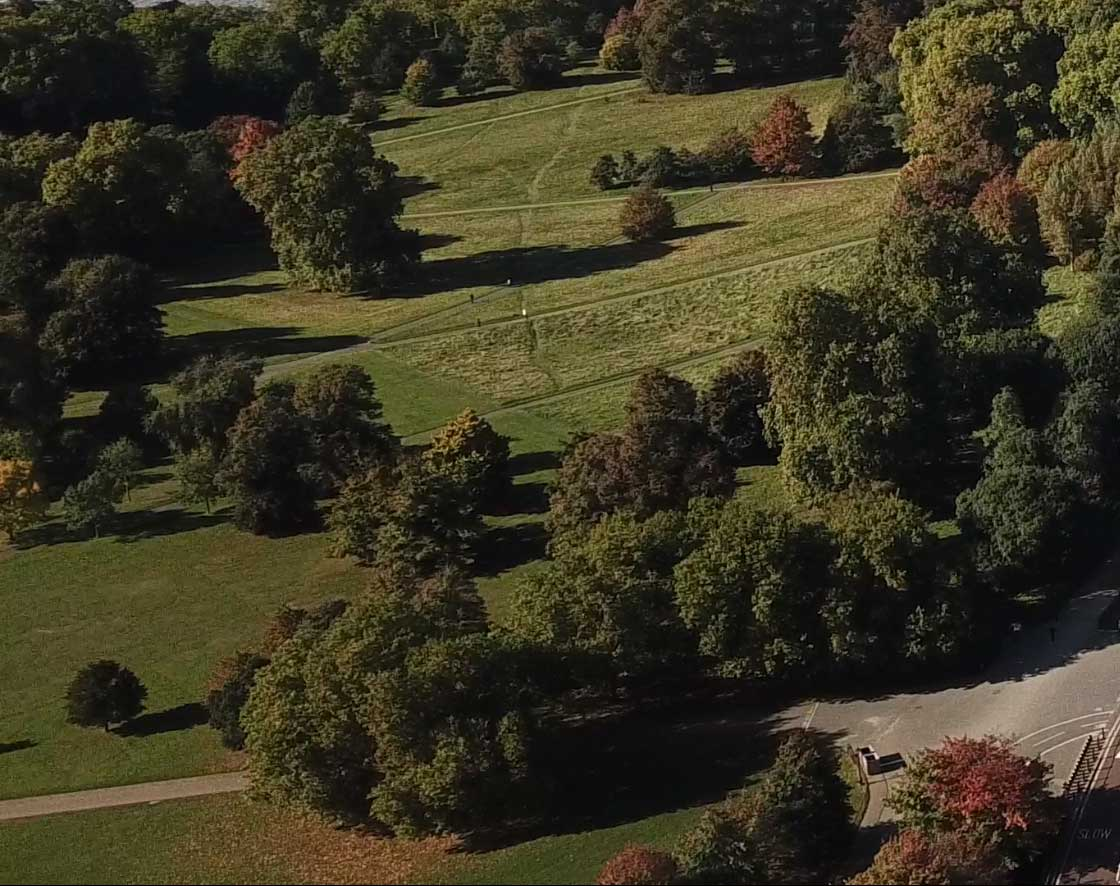tree: (733, 89, 826, 181), (57, 658, 159, 731), (608, 185, 693, 251)
trees: (308, 431, 858, 740), (7, 9, 429, 289), (829, 253, 1120, 596)
